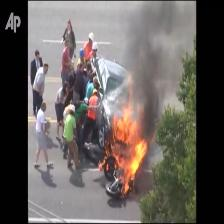fire: (99, 76, 147, 193)
